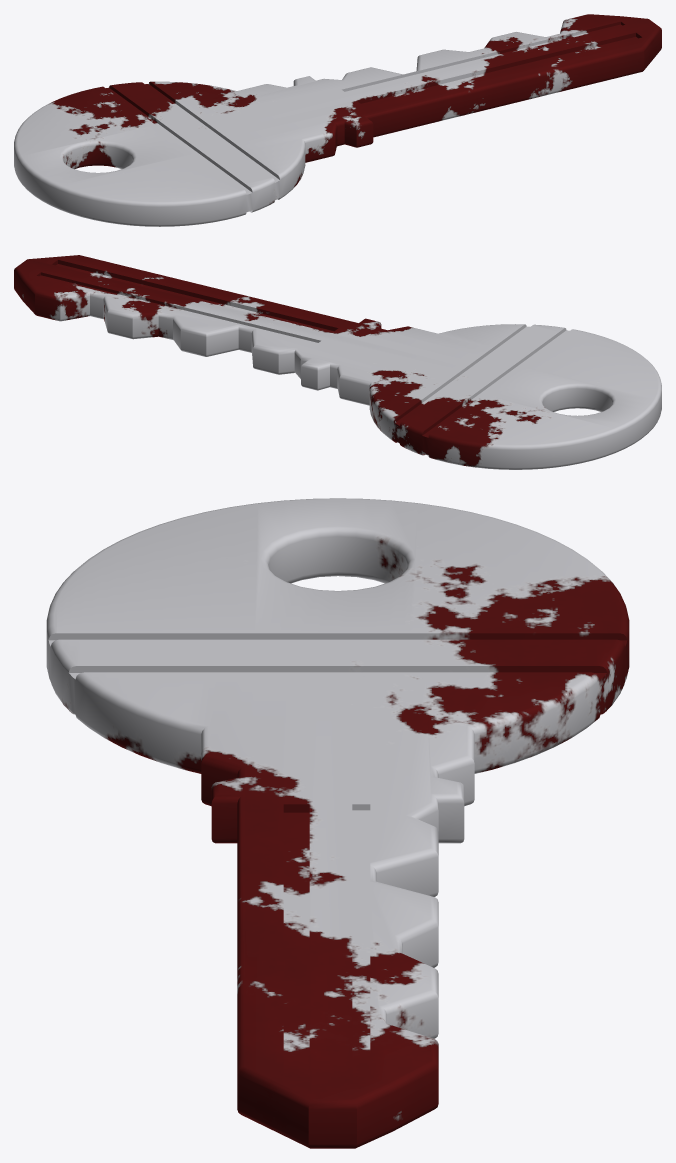
Rendered from Key2.fbx.
The picture shows the model from 3 angles, top to bottom: view 1: azimuth 30°, elevation 25°; view 2: azimuth 150°, elevation 25°; view 3: azimuth 270°, elevation 25°; orthographic projection. The views are drawn at different scales.
Visible parts, largest first — view 1: Key2; view 2: Key2; view 3: Key2.
Boxes of the visible parts, x1,y1,x2,y2 form: Key2: (14,14,661,226); Key2: (14,255,661,469); Key2: (46,498,629,1148).
Bounding box in the file's own units: 0.0556 × 0.0021 × 0.0226.
1 material, 1 textured.
